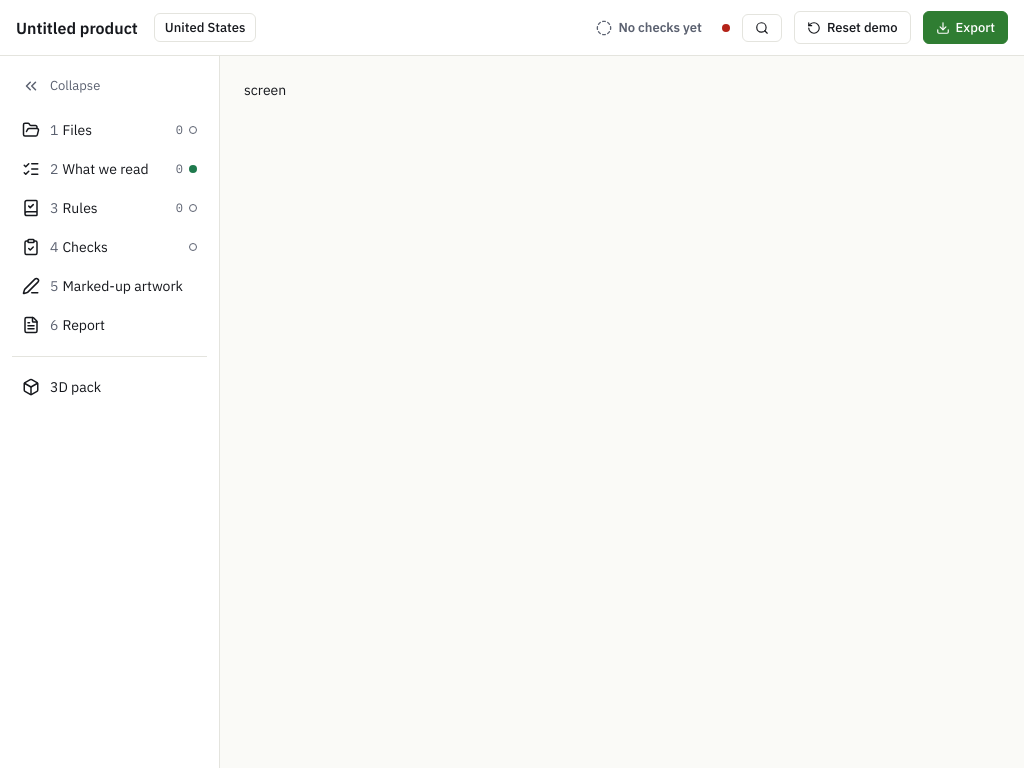
Test: Ask about this panel › shows one answer with source chips (not a thread), then "Confirm as fact" posts and records it
Expected: the text "screen" is shown, [244,81,286,99]
Click the button named "Ask about this".
click(762, 28)  # box [742,14,782,42]
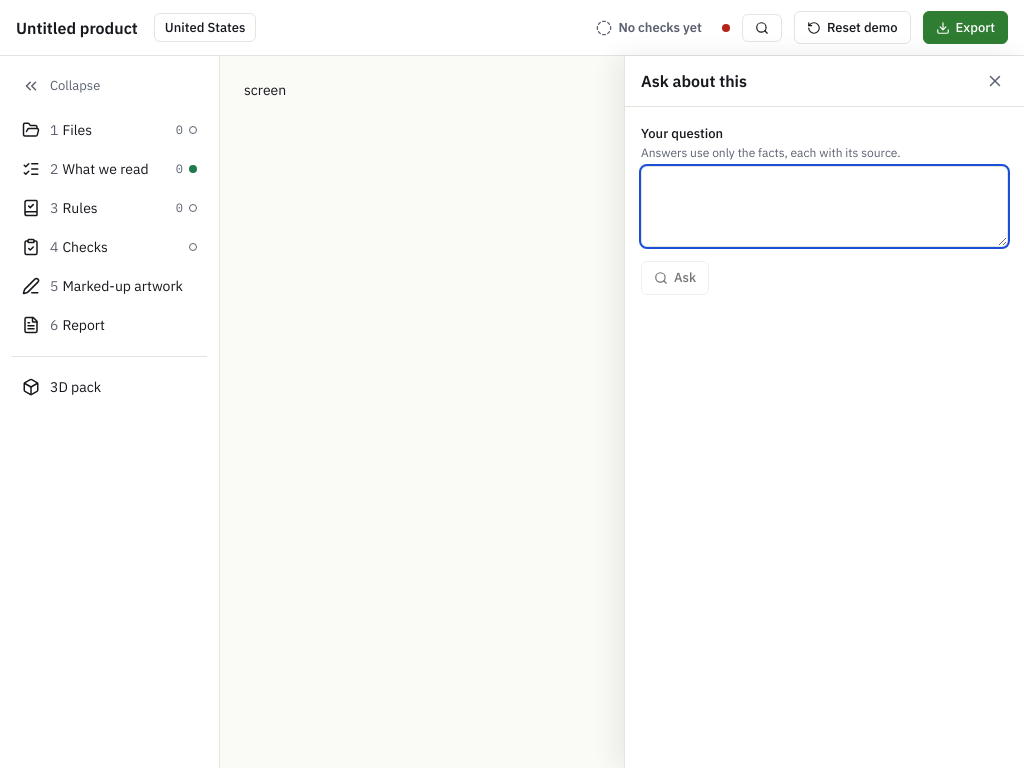
Type "How much is in the box?" into the text box labelled "Your question".
click(824, 206); type("How much is in the box?")  # box [641,166,1008,247]
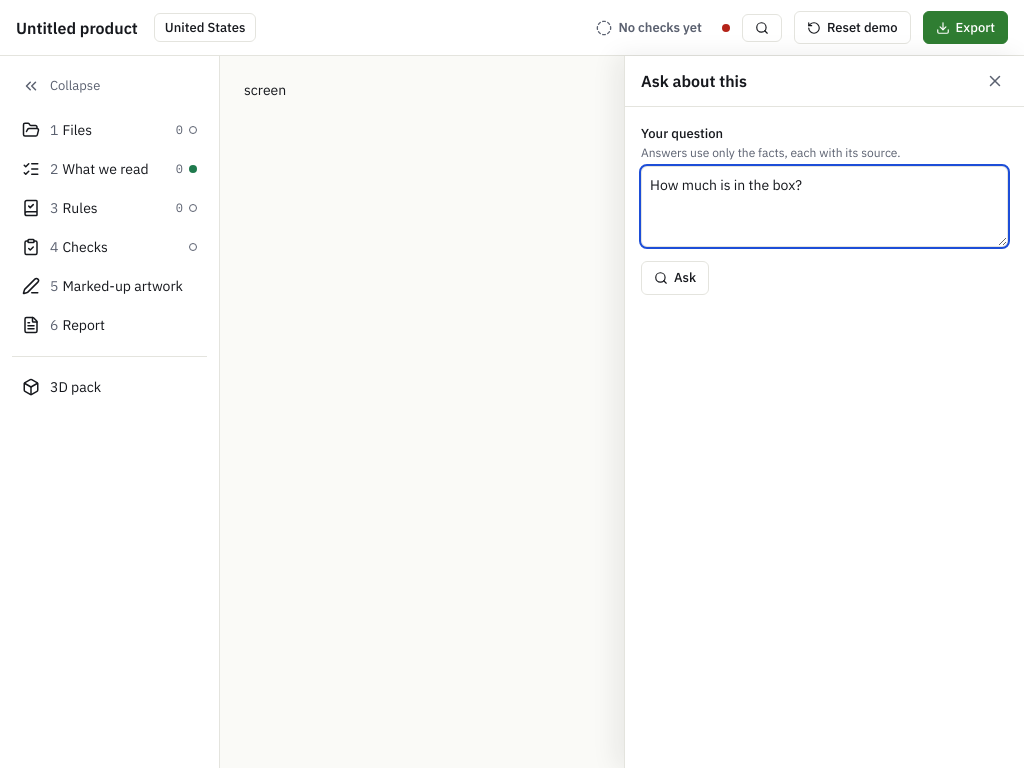
Click the button "Ask".
click(675, 278)  # box [641,261,709,294]
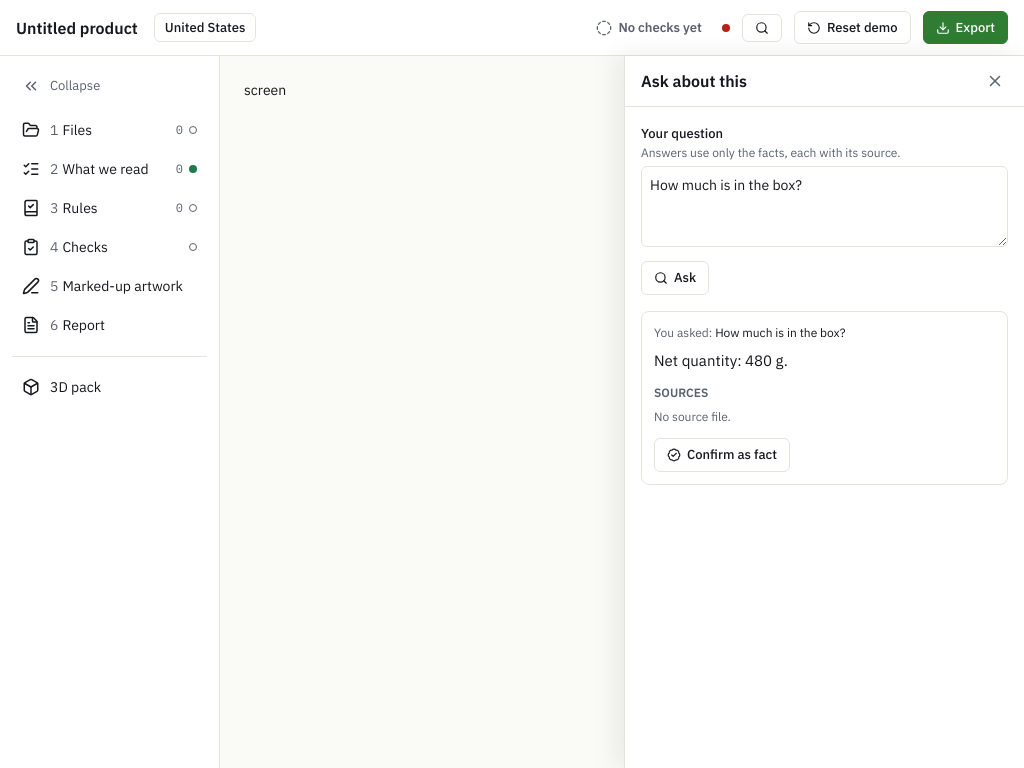
Result: the element named "Answer" shows "Net quantity: 480 g." at [654,350,788,370]
Click the button "Confirm as fact".
click(722, 455)  # box [654,438,790,472]
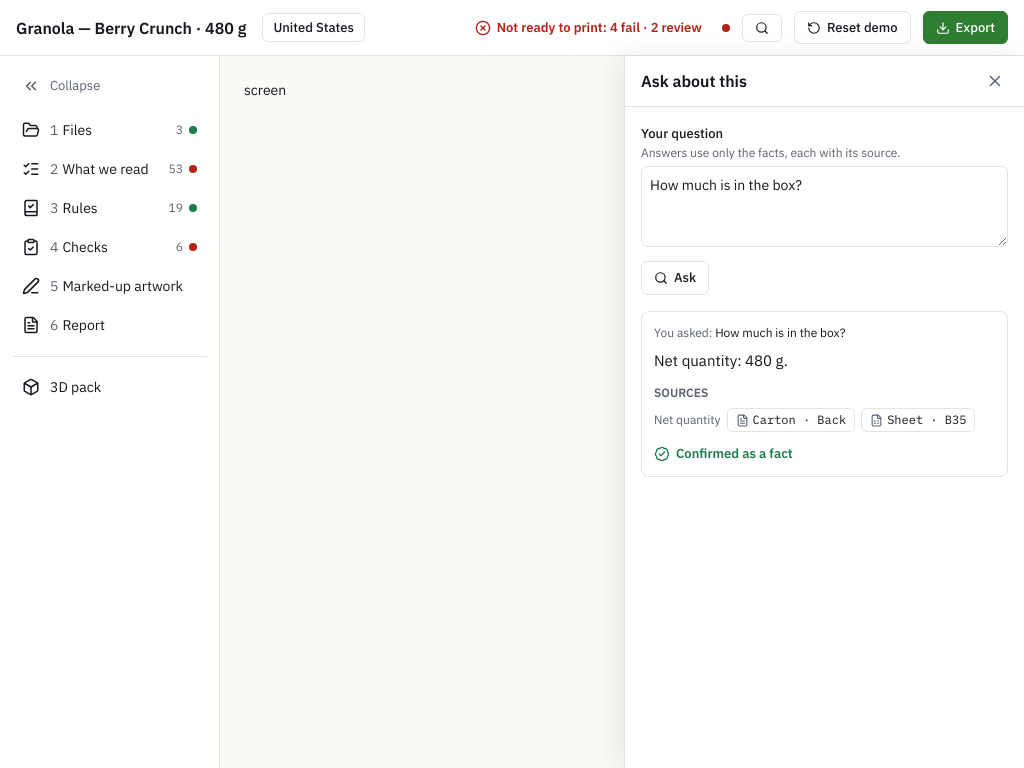
Result: the text "Confirmed as a fact" is shown at [654,445,793,462]
